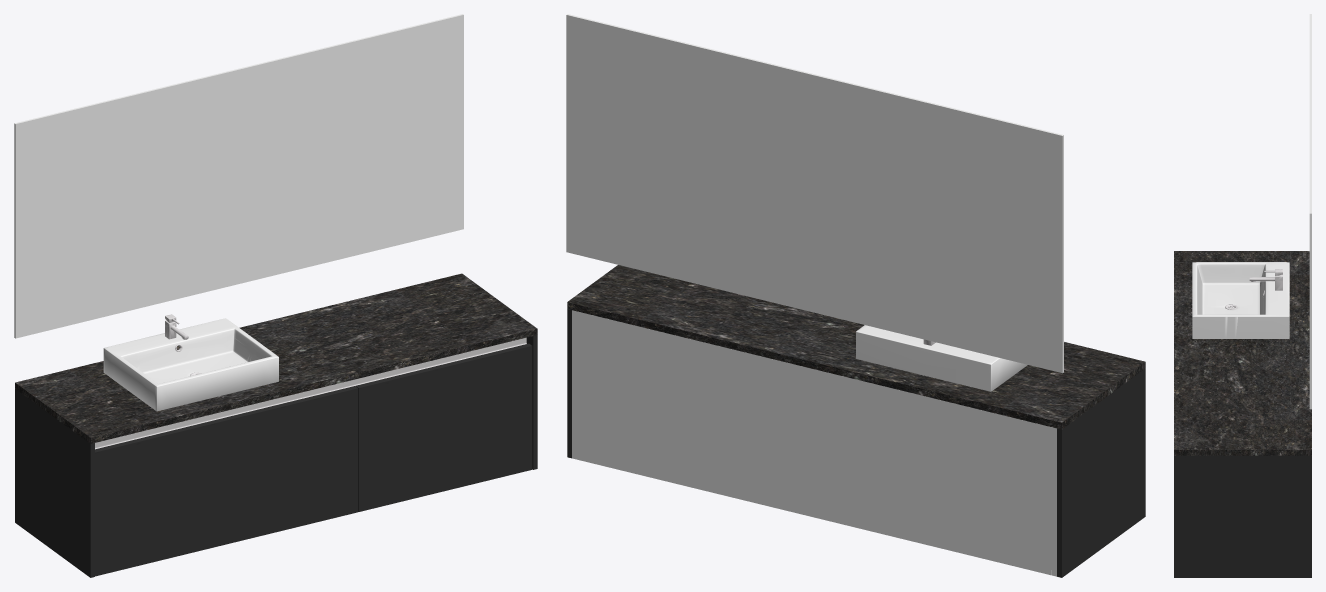
The model's file is MIA-final.glb.
3 renders of one model, left to right at view 1: azimuth 30°, elevation 25°; view 2: azimuth 150°, elevation 25°; view 3: azimuth 270°, elevation 25°, orthographic. The views are drawn at different scales.
Parts seen in each view (by area): view 1: MIA; view 2: MIA; view 3: MIA.
Boxes of the visible parts, x1,y1,x2,y2 form: MIA: (14,14,537,577); MIA: (566,14,1145,577); MIA: (1174,14,1311,577).
Size of the model in its own units: 1.5 by 1.28 by 0.4388.
7 materials, 2 textured.
